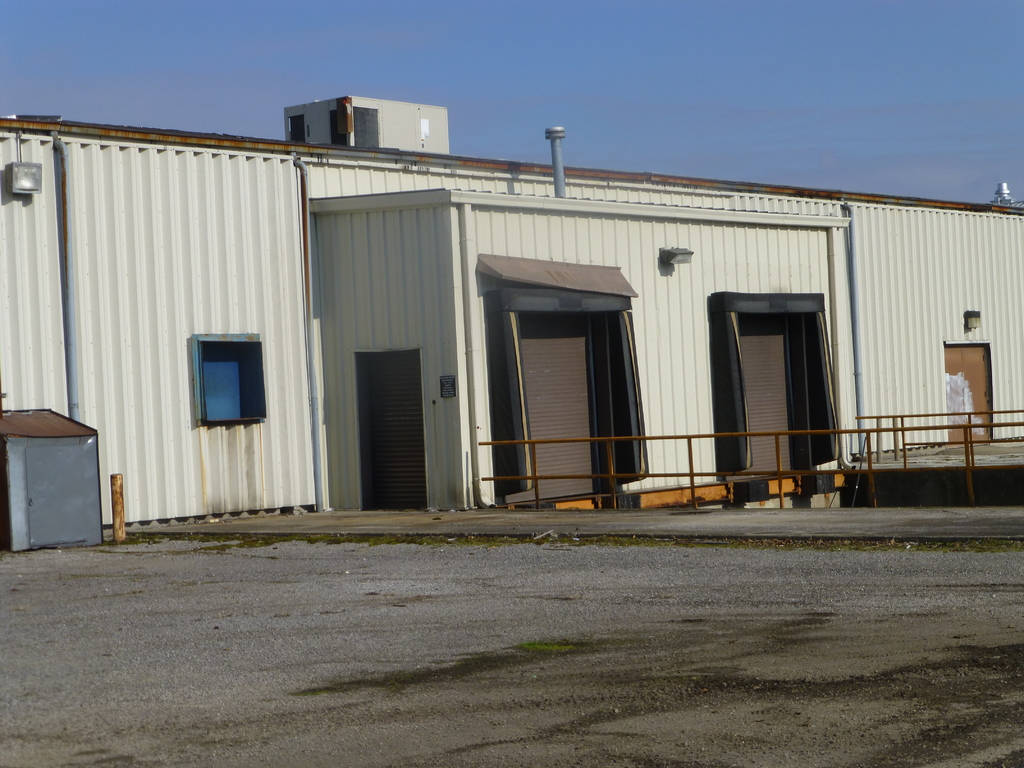door: (355, 365, 425, 515)
